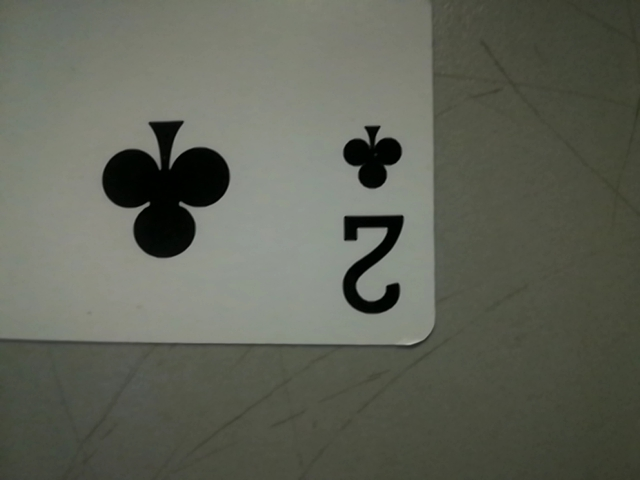mh 2: (318, 110, 431, 327)
